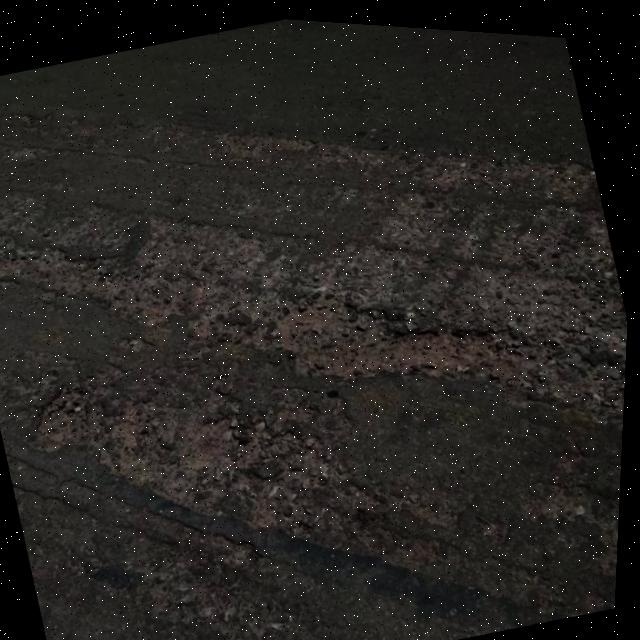Pothole: (264, 244, 510, 422), (28, 209, 198, 347), (23, 375, 107, 453)
